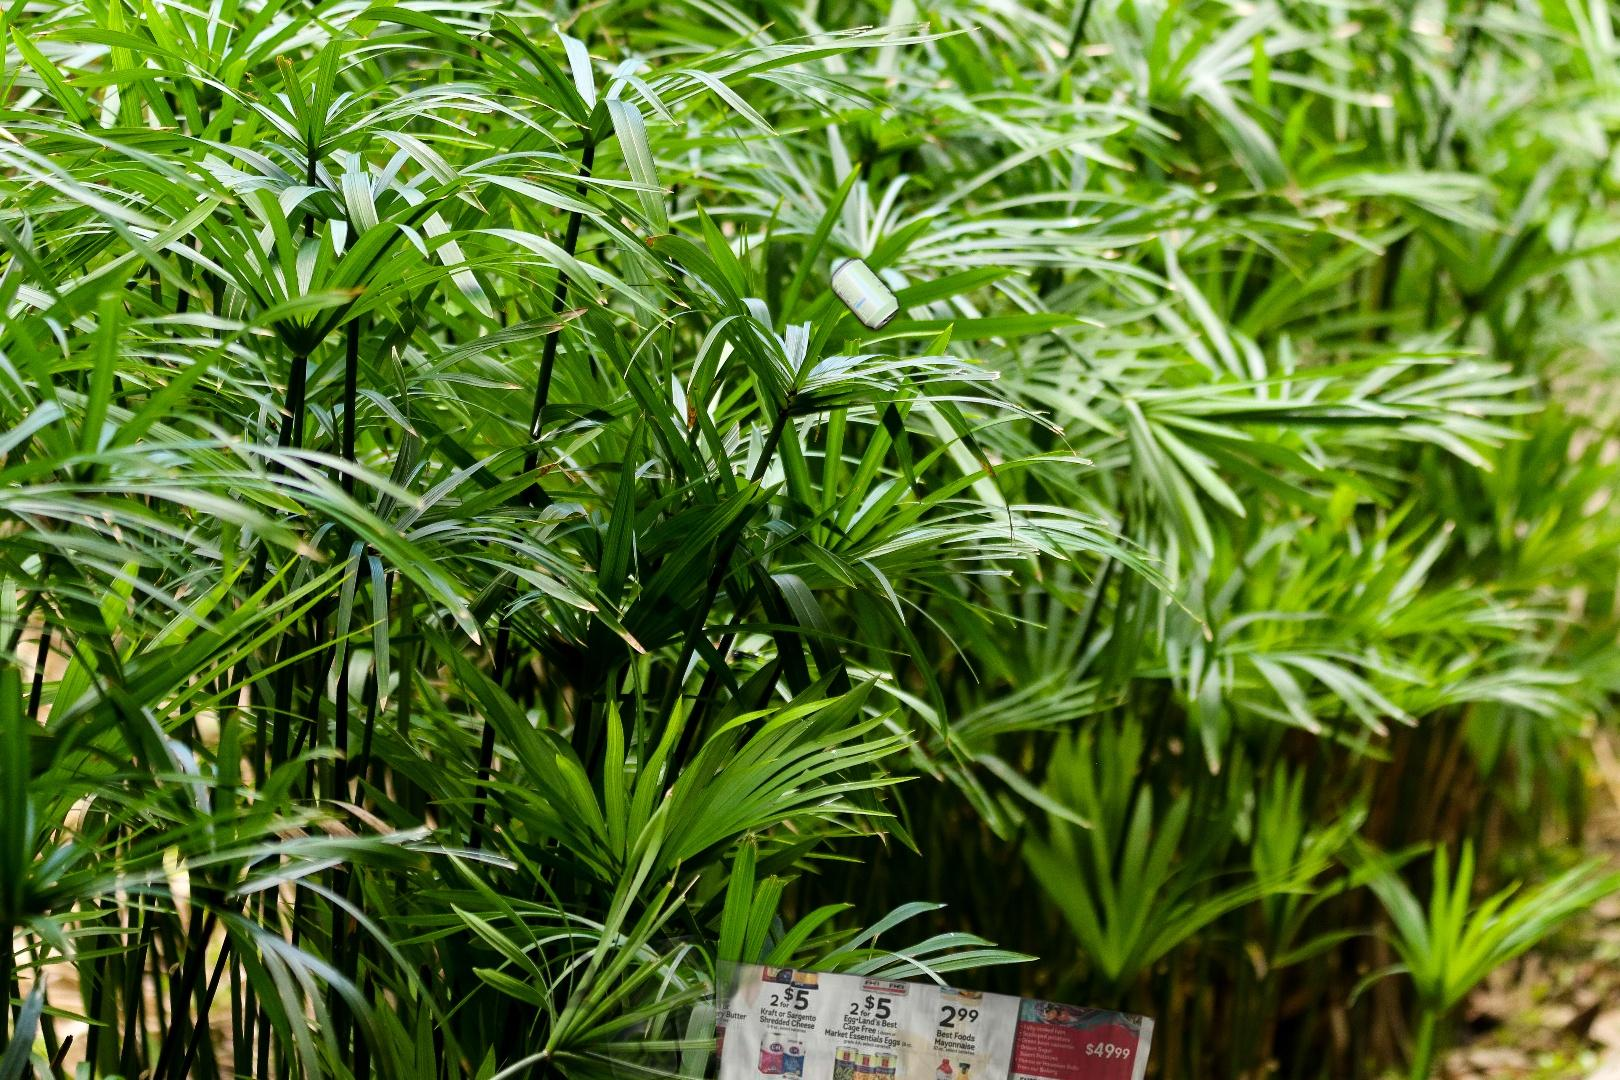battery: (447, 933, 1248, 1080)
metal-cans: (770, 253, 984, 744)
paper: (716, 955, 1161, 1080)
